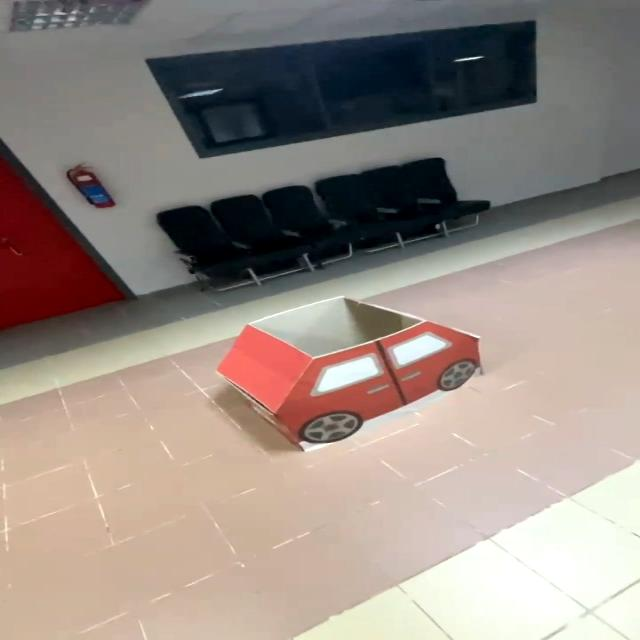red_car: (189, 283, 503, 467)
